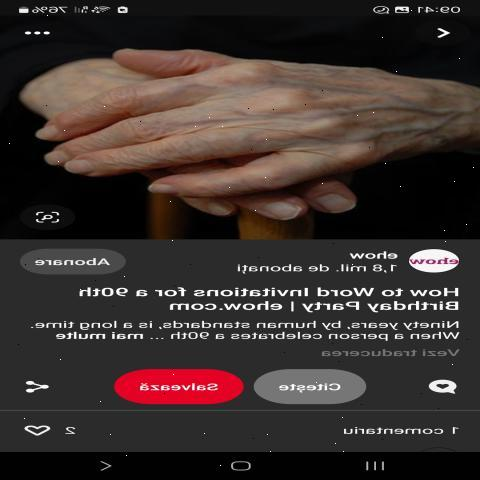Hands: (30, 36, 456, 218)
